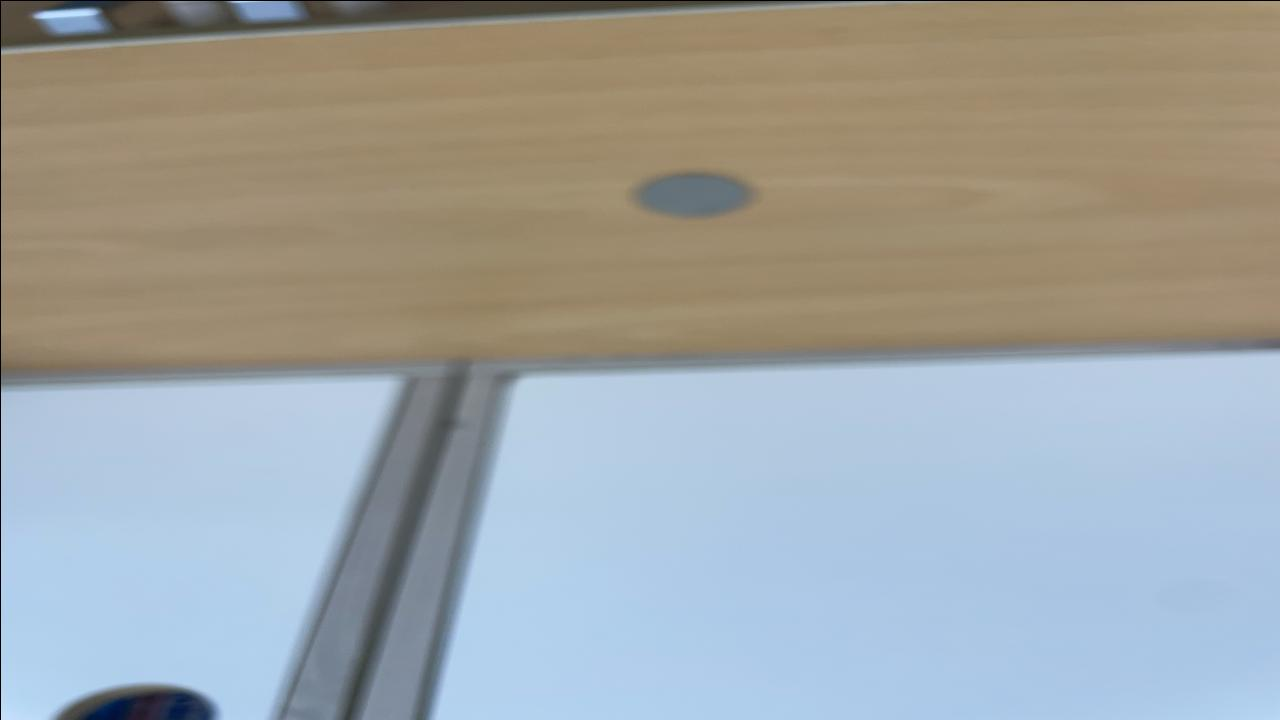coin: (625, 168, 761, 220), (44, 684, 215, 720)
